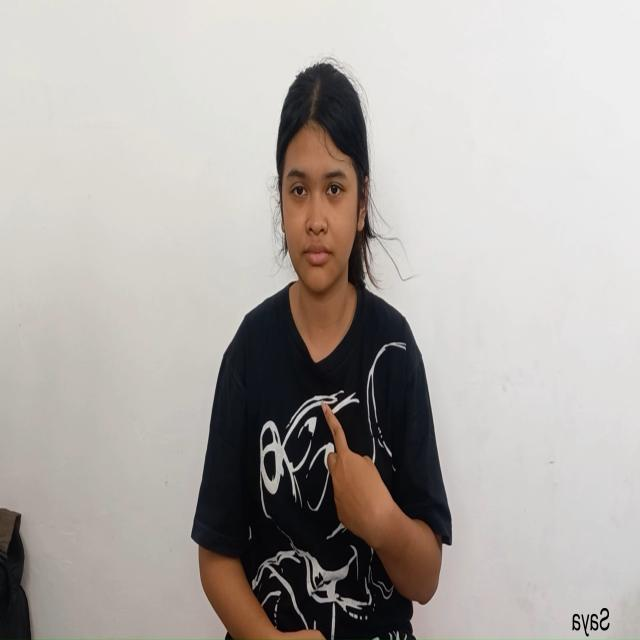Saya -BISINDO-: (312, 376, 453, 616)
